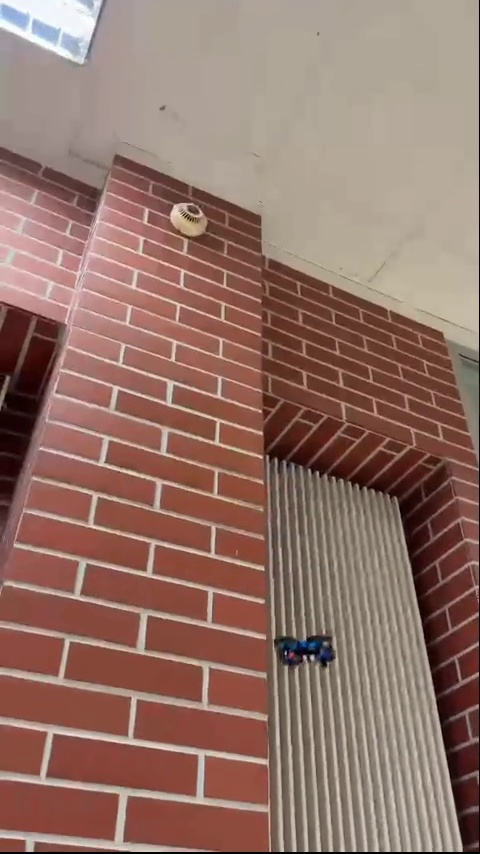drone: (271, 631, 335, 665)
